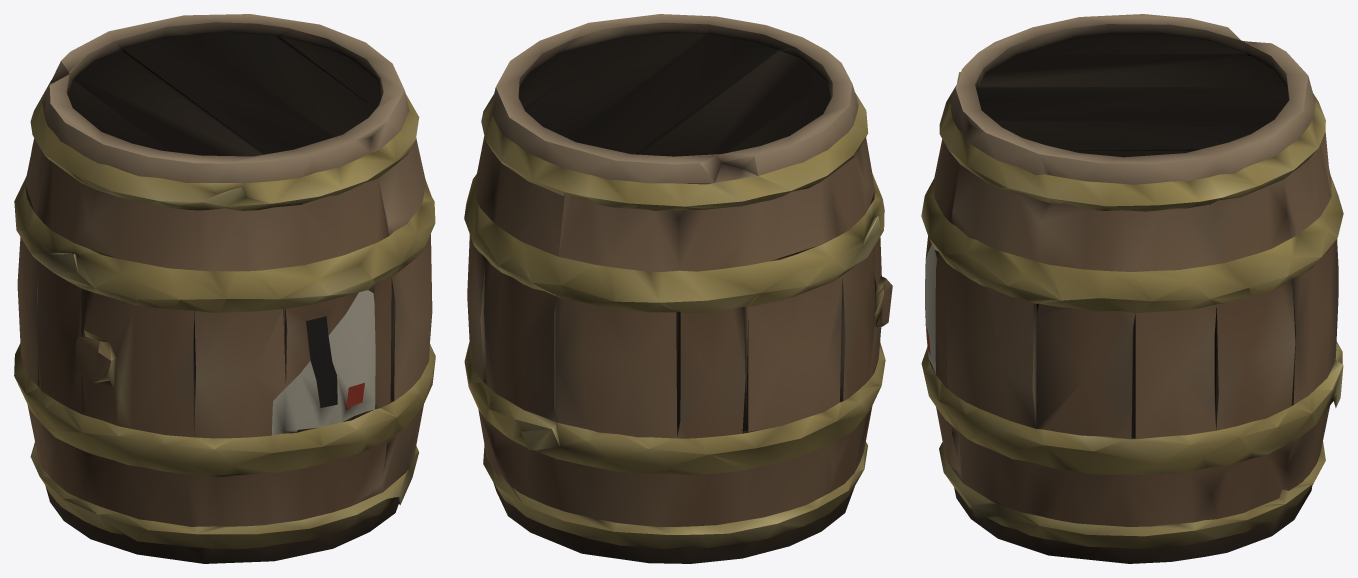
The model's file is barrel_small.glb.
The picture shows the model from 3 angles, left to right: view 1: azimuth 30°, elevation 25°; view 2: azimuth 150°, elevation 25°; view 3: azimuth 270°, elevation 25°; orthographic projection.
Visible parts, largest first — view 1: barrel_small_LOD0; view 2: barrel_small_LOD0; view 3: barrel_small_LOD0.
Part boxes in pixels (x1,y1,x2,y2): barrel_small_LOD0: (14,14,435,563); barrel_small_LOD0: (464,14,892,563); barrel_small_LOD0: (921,14,1343,563).
Size of what is drawn, in the model's own units: 0.6724 by 0.7057 by 0.6747.
